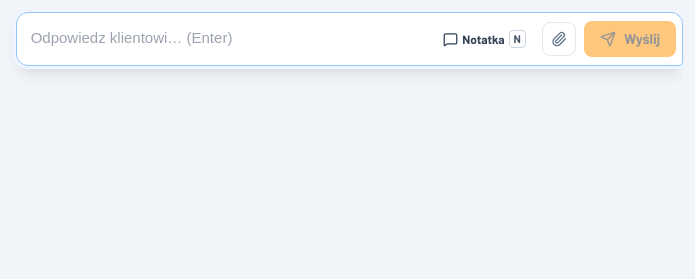
Test: pusty edytor to jedna linijka › N w polu odpowiedzi pisze literę, nie przełącza trybu
The width and height of the screenshot is (695, 279).
Click the text box named "Szkic odpowiedzi" at (229, 39), box [31,19,427,59]
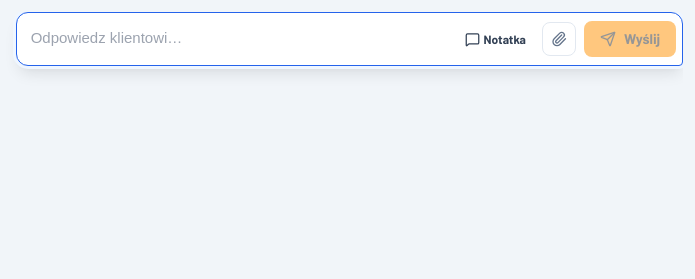
Type keys "Nóż"
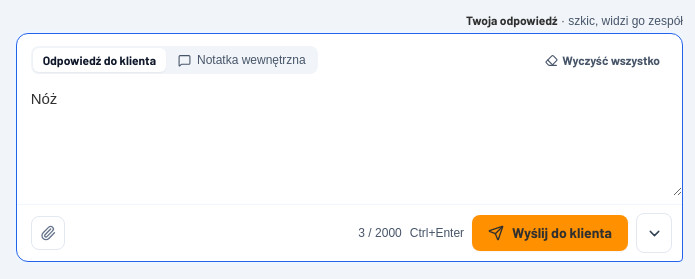
Expected: the text box named "Szkic odpowiedzi" holds "Nóż", [17,76,682,196]
